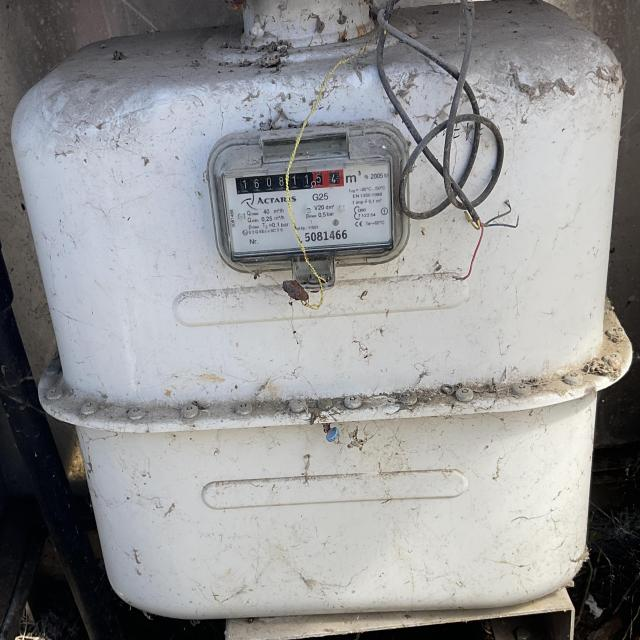gaz_meter: (222, 160, 393, 258)
indication: (235, 169, 344, 195)
